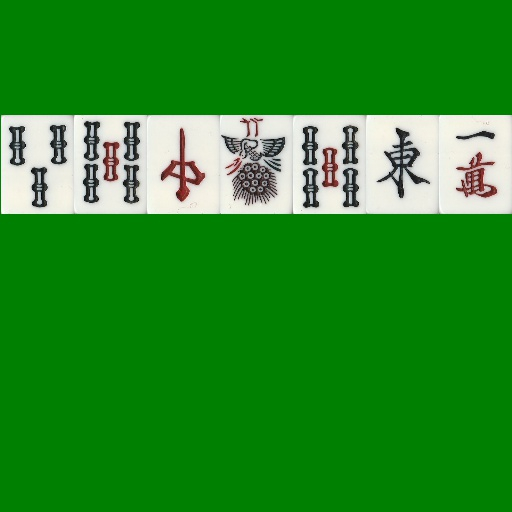1m: (439, 115, 512, 214)
1s: (220, 115, 293, 214)
3s: (1, 115, 74, 214)
5s: (74, 115, 147, 214), (293, 115, 366, 214)
east: (366, 115, 439, 214)
tyun: (147, 115, 220, 214)
